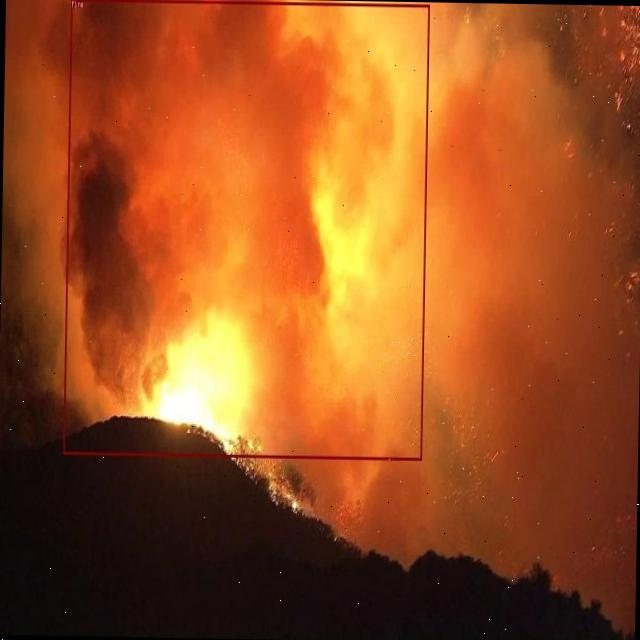fire: (62, 0, 428, 459)
